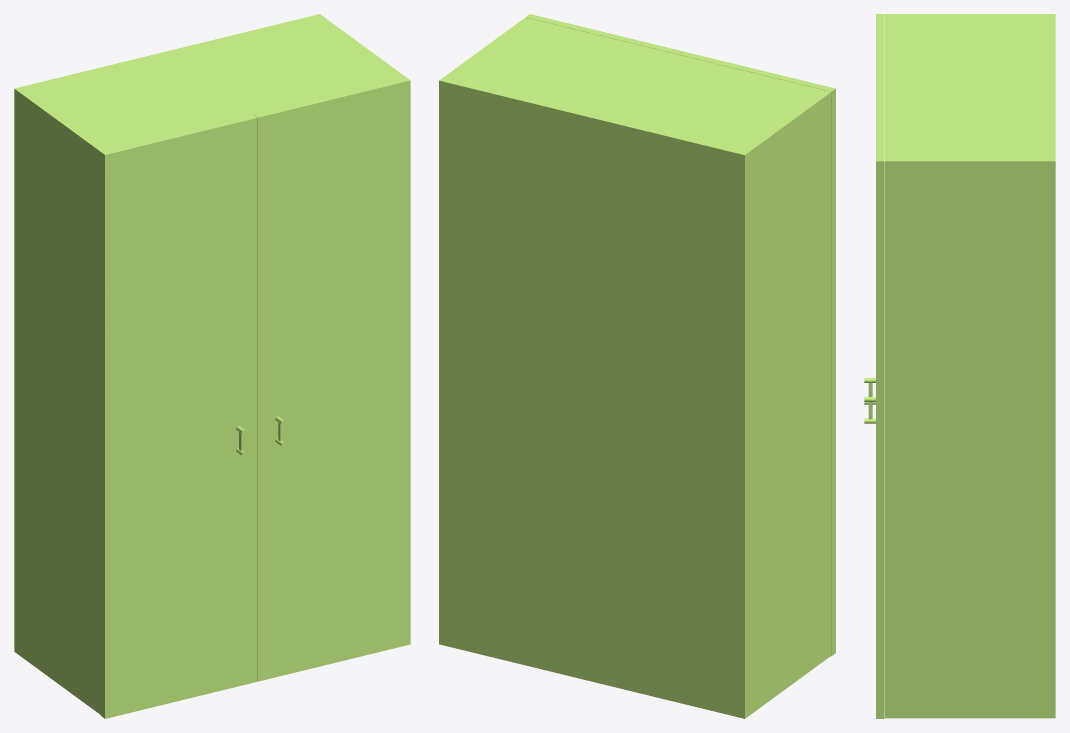
Rendered from Big_Cupboard.fbx.
3 renders of one model, left to right at view 1: azimuth 30°, elevation 25°; view 2: azimuth 150°, elevation 25°; view 3: azimuth 270°, elevation 25°, orthographic.
Visible parts, largest first — view 1: Big_Cupboard_Door_R, Big_Cupboard_Door_L, Big_Cupboard; view 2: Big_Cupboard, Big_Cupboard_Door_R, Big_Cupboard_Door_L; view 3: Big_Cupboard, Big_Cupboard_Door_L, Big_Cupboard_Door_R.
Boxes of the visible parts, bbox=[...] form: Big_Cupboard_Door_R: bbox=[100, 114, 257, 718]; Big_Cupboard_Door_L: bbox=[253, 77, 410, 681]; Big_Cupboard: bbox=[14, 14, 405, 714]; Big_Cupboard: bbox=[439, 17, 831, 718]; Big_Cupboard_Door_R: bbox=[679, 51, 835, 656]; Big_Cupboard_Door_L: bbox=[526, 14, 682, 54]; Big_Cupboard: bbox=[885, 14, 1055, 718]; Big_Cupboard_Door_L: bbox=[864, 87, 884, 718]; Big_Cupboard_Door_R: bbox=[864, 14, 884, 404].
Size of the model in its own units: 146 by 257 by 79.9.
